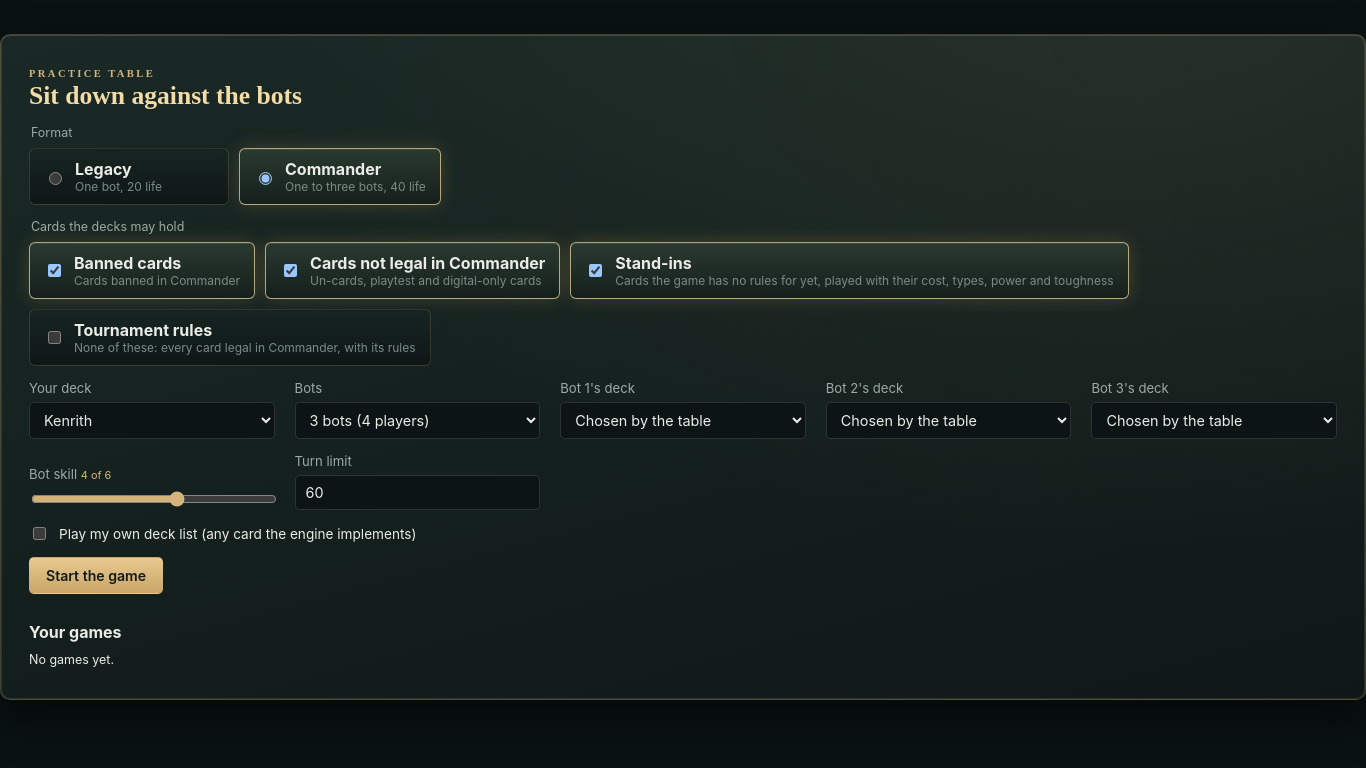
Scenario: the practice table › still clears the deck and sets that format's bots when the format changes
Click the radio button labelled "Legacy One bot, 20 life" at (56, 178), box [49,172,62,184]
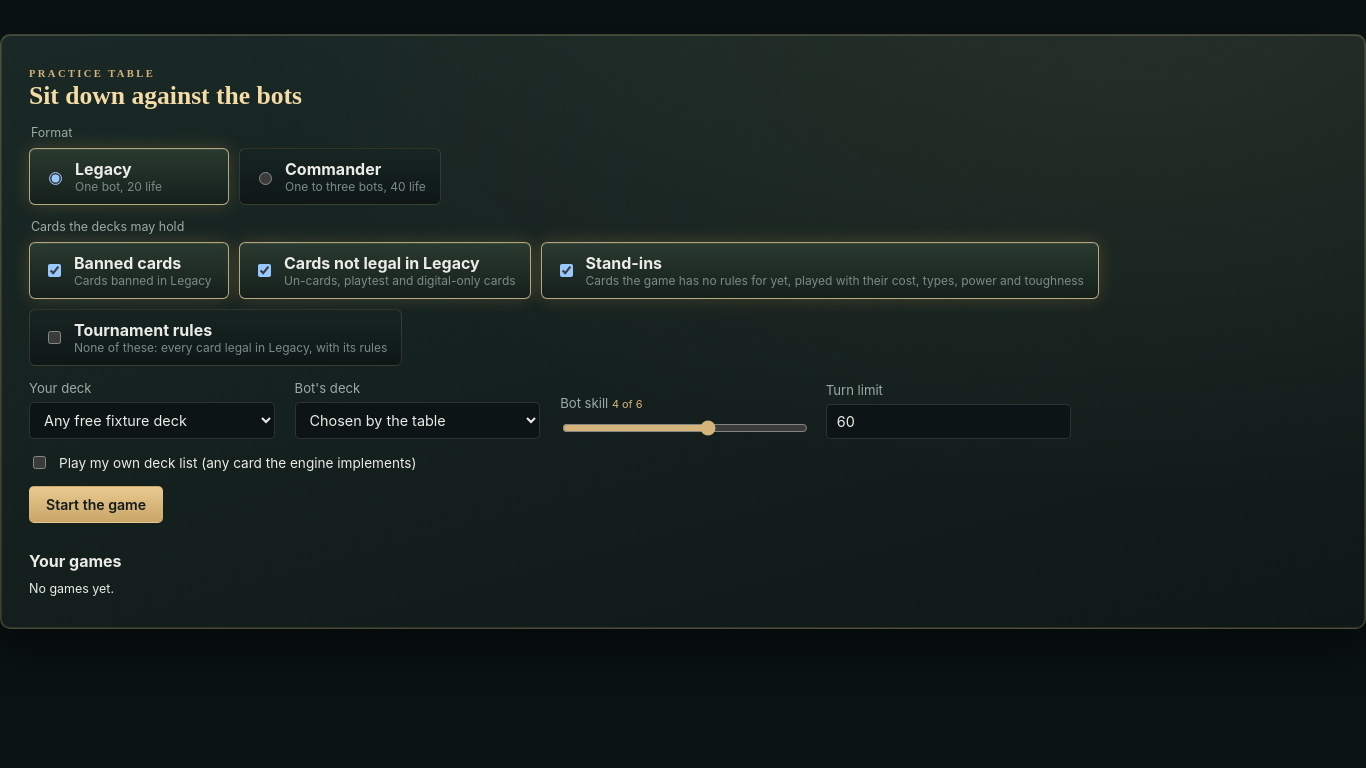
expect the dropdown labelled "Your deck" shows "Any free fixture deck": met, box [29,402,275,439]
Click the radio button labelled "Commander One to three bots, 40 life" at (266, 178), box [259,172,272,184]
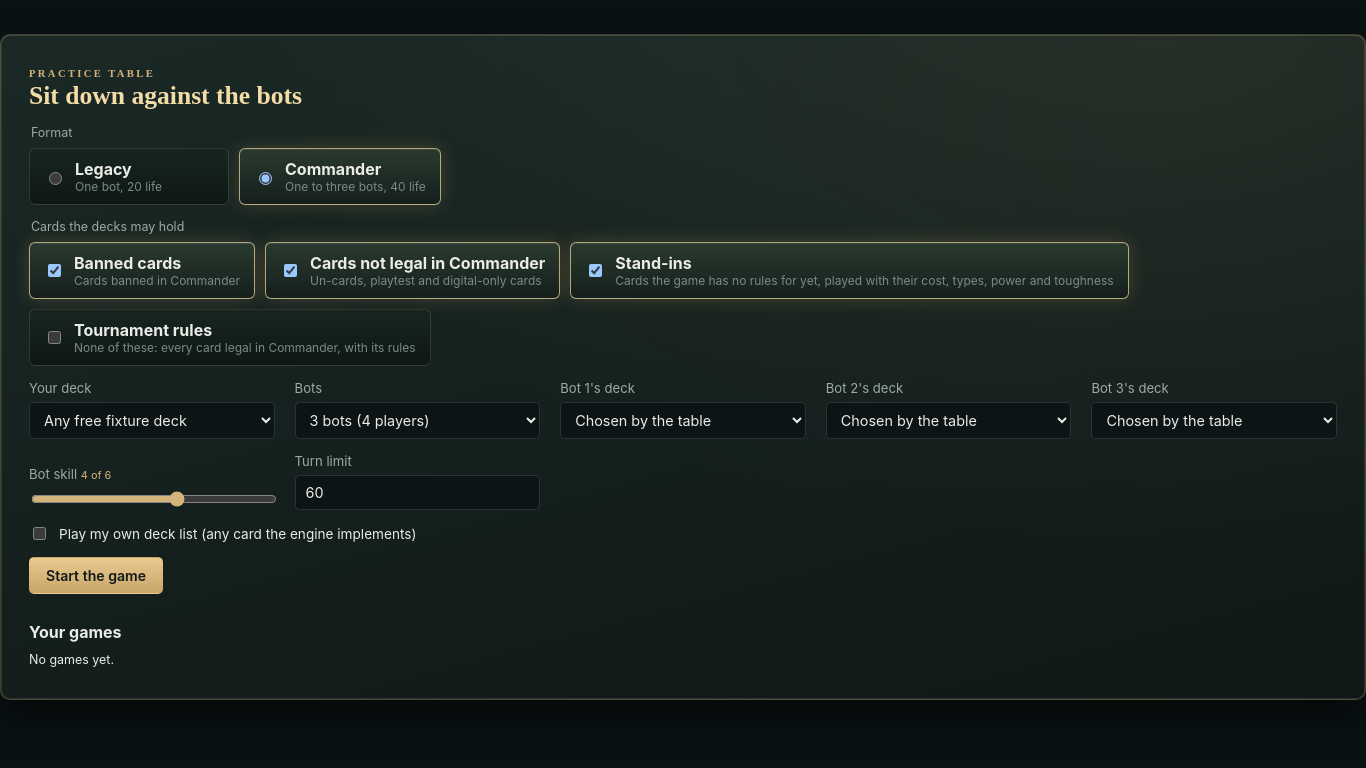
expect the dropdown labelled "Your deck" shows "Any free fixture deck": met, box [29,402,275,439]
expect the dropdown labelled "Bots" shows "3 bots (4 players)": met, box [295,402,540,439]
